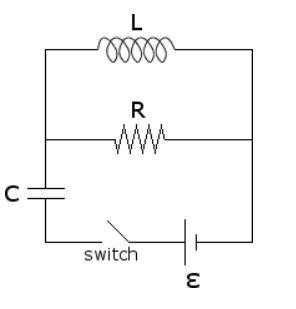Capacitor: (22, 177, 76, 217)
